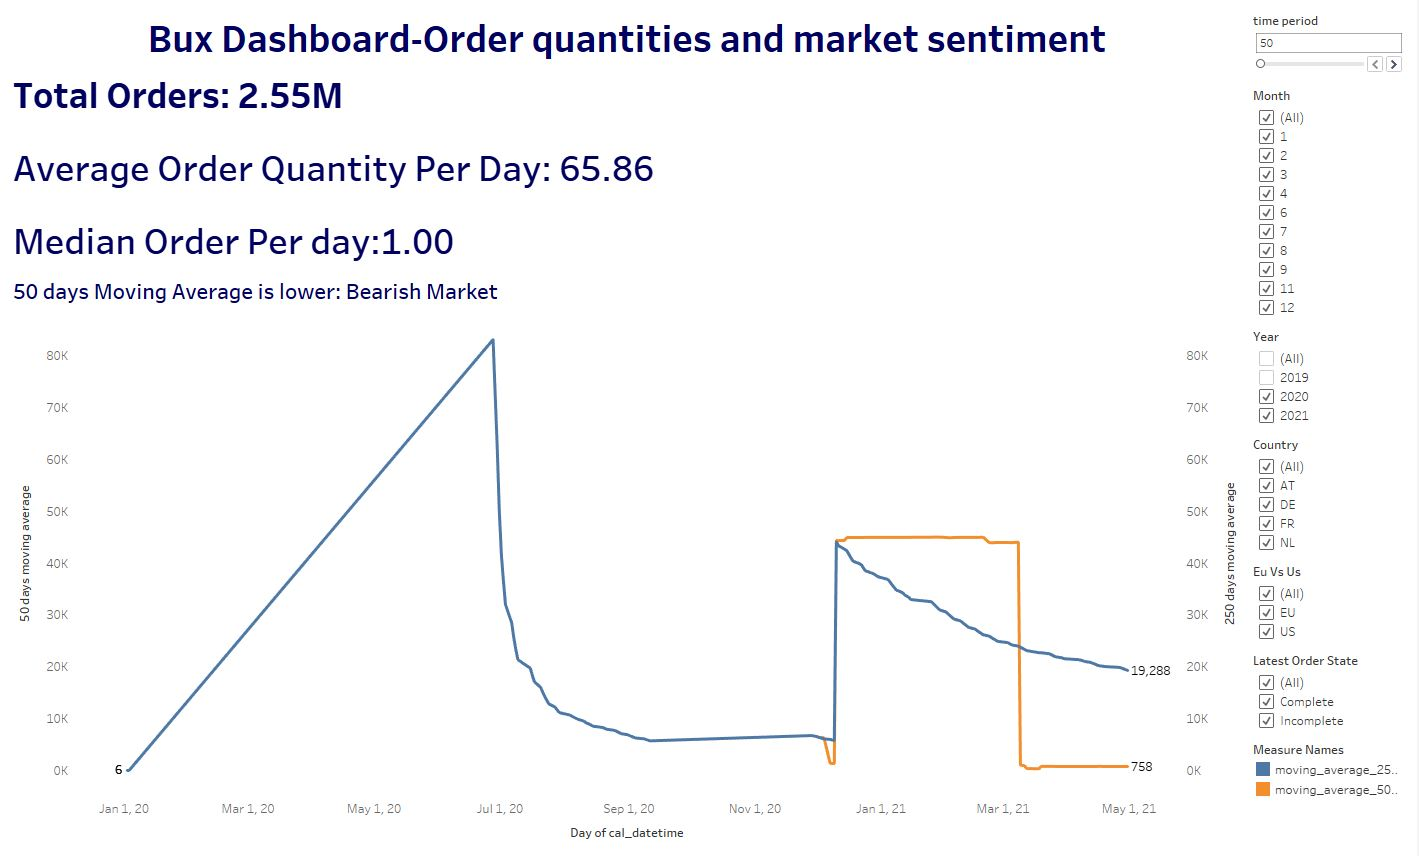

The dashboard page shown, as its layout file describes it:
{"tool":"tableau","page":{"name":"Dashboard 2","canvas":[1000,1000],"units":"permille","ordinal":1},"visuals":[{"type":"text","box":[5.6,9.3,876.1,67.4]},{"type":"parameter","param":"[Parameters].[Parameter 1]","box":[881.7,9.3,112.7,87.2]},{"type":"worksheet","title":"Total","mark":"Automatic","box":[5.6,76.7,876.1,65.1]},{"type":"filter","title":"Average","param":"[federated.1n8nzd214askj616vdsax0b4wegg].[none:MONTH:nk]","box":[881.7,96.5,112.7,280.2]},{"type":"worksheet","title":"Average","mark":"Automatic","box":[5.6,141.8,876.1,104.7]},{"type":"worksheet","title":"MEDIAN","mark":"Automatic","box":[5.6,246.5,876.1,65.1]},{"type":"worksheet","title":"Moving Average","mark":"Automatic","rows":["Calculation_197595500179914761","moving_average_50_days (copy)_197595500181606410"],"cols":["Calculation_996984433913974787"],"box":[5.6,311.6,876.1,679.1]},{"type":"filter","title":"Average","param":"[federated.1n8nzd214askj616vdsax0b4wegg].[none:YEAR:nk]","box":[881.7,376.7,112.7,125.6]},{"type":"filter","title":"Moving Average","param":"[federated.1n8nzd214askj616vdsax0b4wegg].[none:COUNTRY:nk]","box":[881.7,502.3,112.7,147.7]},{"type":"filter","title":"Moving Average","param":"[federated.1n8nzd214askj616vdsax0b4wegg].[none:EU_VS_US:nk]","box":[881.7,650,112.7,103.5]},{"type":"filter","title":"Moving Average","param":"[federated.1n8nzd214askj616vdsax0b4wegg].[none:LATEST_ORDER_STATE:nk]","box":[881.7,753.5,112.7,103.5]},{"type":"legend","title":"Moving Average","param":"[federated.1n8nzd214askj616vdsax0b4wegg].[:Measure Names]","box":[881.7,857,112.7,76.7]}]}

Visuals, with their boxes on the dashboard's canvas, which has no fixed pixel size, in thousandths of its width and height (x1, y1, x2, y2). These are canvas units, not pixel positions in the 1419x856 screenshot, which may show the page scaled, cropped or inside an application window:
text: {"left": 6, "top": 9, "right": 882, "bottom": 77}
parameter: {"left": 882, "top": 9, "right": 994, "bottom": 96}
"Total" worksheet: {"left": 6, "top": 77, "right": 882, "bottom": 142}
"Average" filter: {"left": 882, "top": 96, "right": 994, "bottom": 377}
"Average" worksheet: {"left": 6, "top": 142, "right": 882, "bottom": 246}
"MEDIAN" worksheet: {"left": 6, "top": 246, "right": 882, "bottom": 312}
"Moving Average" worksheet: {"left": 6, "top": 312, "right": 882, "bottom": 991}
"Average" filter: {"left": 882, "top": 377, "right": 994, "bottom": 502}
"Moving Average" filter: {"left": 882, "top": 502, "right": 994, "bottom": 650}
"Moving Average" filter: {"left": 882, "top": 650, "right": 994, "bottom": 754}
"Moving Average" filter: {"left": 882, "top": 754, "right": 994, "bottom": 857}
"Moving Average" legend: {"left": 882, "top": 857, "right": 994, "bottom": 934}
